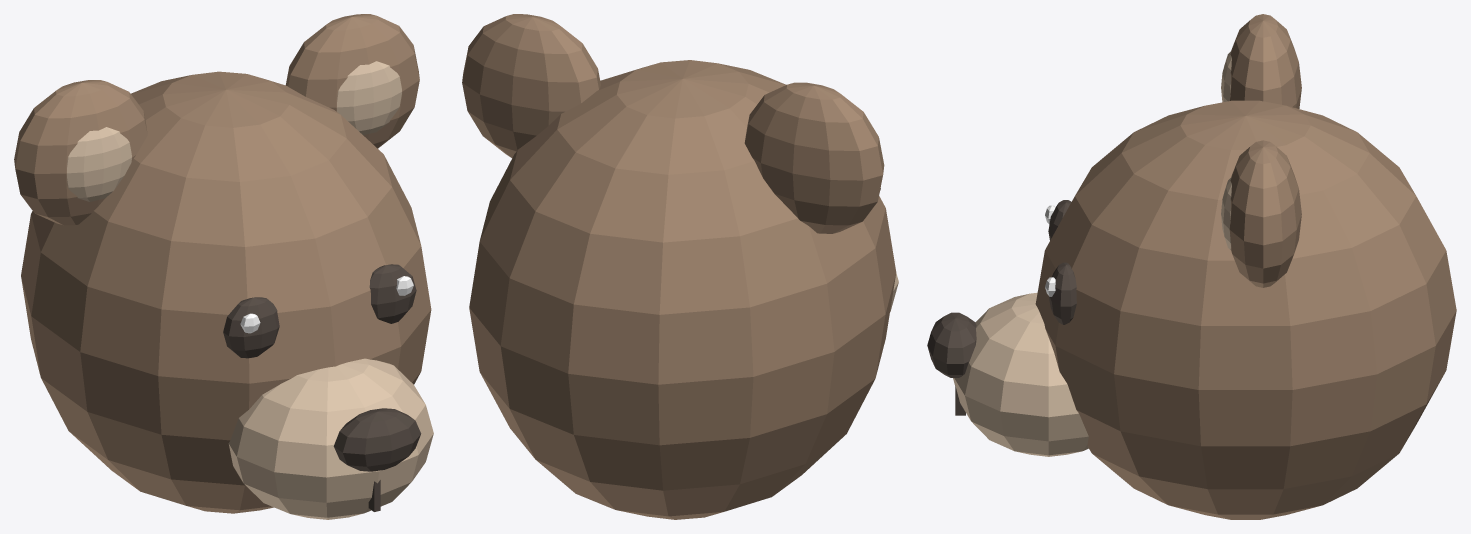
The model's file is k_bear.fbx.
3 views of the same model, side by side, from view 1: azimuth 30°, elevation 25°; view 2: azimuth 150°, elevation 25°; view 3: azimuth 270°, elevation 25° (orthographic). The views are drawn at different scales.
Visible parts, largest first — view 1: Mask; view 2: Mask; view 3: Mask.
Part boxes in pixels (bbox=[...]): Mask: bbox=[14, 14, 433, 519]; Mask: bbox=[462, 14, 898, 519]; Mask: bbox=[927, 14, 1456, 519].
Size of the model in its own units: 0.254 by 0.264 by 0.301.
